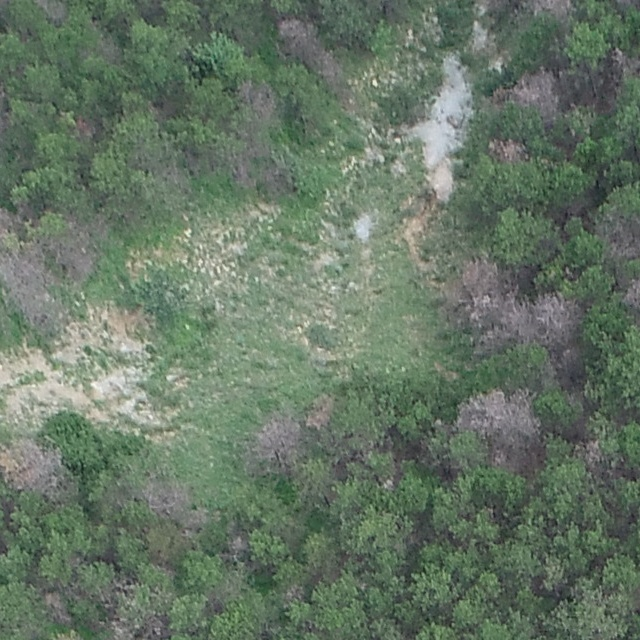unhealthy: (459, 385, 541, 458), (0, 239, 55, 325), (441, 255, 508, 319), (0, 439, 70, 499), (248, 411, 304, 468), (276, 13, 327, 74), (532, 289, 583, 347), (49, 225, 99, 283), (511, 67, 561, 115), (140, 477, 194, 518), (596, 211, 640, 261), (235, 77, 280, 118), (499, 297, 535, 343), (227, 148, 260, 191), (545, 344, 583, 380), (303, 393, 337, 431), (575, 436, 608, 475), (258, 161, 293, 195), (487, 137, 528, 165), (91, 31, 124, 64), (42, 589, 71, 626), (608, 46, 640, 78), (476, 326, 511, 353), (526, 0, 573, 20), (0, 82, 12, 158), (620, 270, 639, 317), (32, 0, 68, 22), (68, 115, 99, 140), (139, 612, 167, 639), (224, 531, 250, 557), (0, 203, 20, 236), (108, 616, 135, 640), (281, 580, 306, 604)
